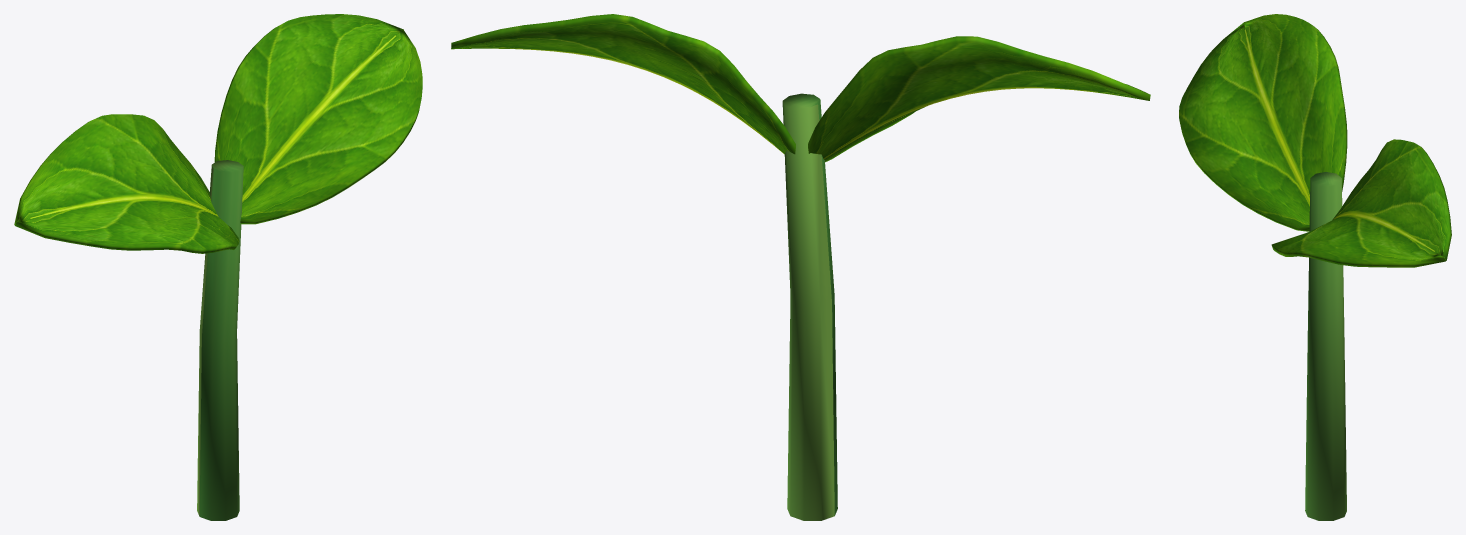
File: NP_Sunflower_Sprout.fbx
The picture shows the model from 3 angles, left to right: view 1: azimuth 30°, elevation 25°; view 2: azimuth 150°, elevation 25°; view 3: azimuth 270°, elevation 25°; orthographic projection. The views are drawn at different scales.
Parts seen in each view (by area): view 1: NP_Sunflower_Sprout; view 2: NP_Sunflower_Sprout; view 3: NP_Sunflower_Sprout.
Boxes of the visible parts, box(x1,y1,x2,y2) form: NP_Sunflower_Sprout: box(14, 14, 422, 520); NP_Sunflower_Sprout: box(451, 14, 1150, 520); NP_Sunflower_Sprout: box(1179, 14, 1451, 520).
Bounding box in the file's own units: 15.65 × 13.1 × 7.69.
